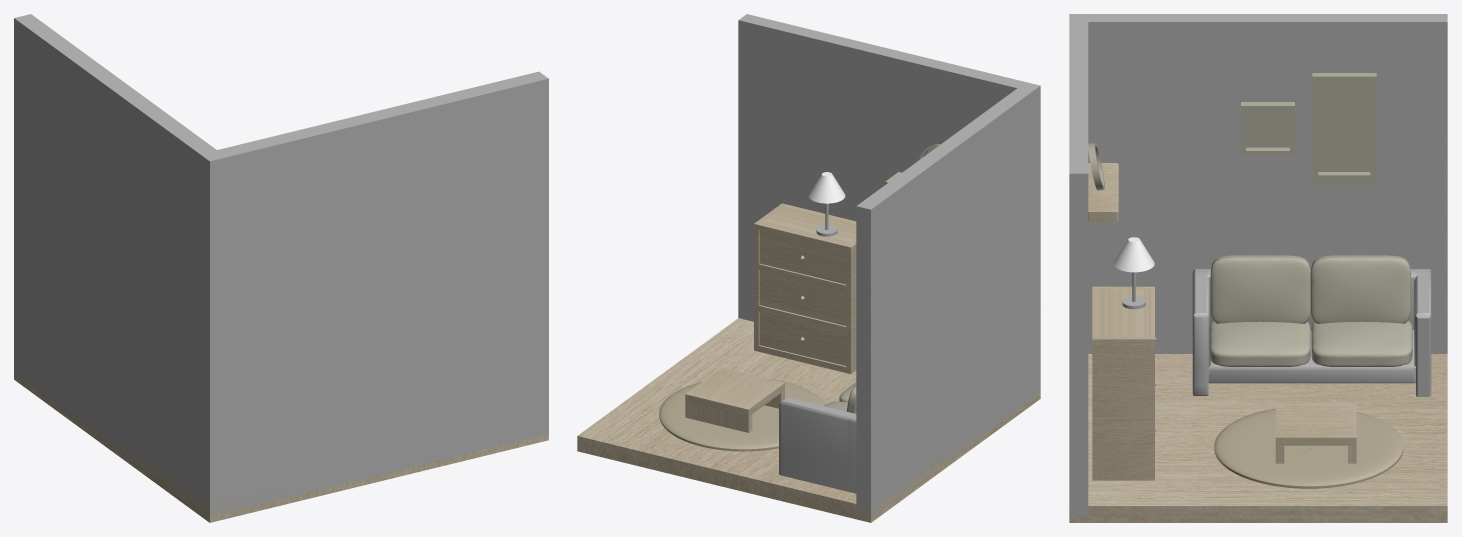
Rendered from basic.gltf.
The picture shows the model from 3 angles, left to right: view 1: azimuth 30°, elevation 25°; view 2: azimuth 150°, elevation 25°; view 3: azimuth 270°, elevation 25°; orthographic projection. The views are drawn at different scales.
Visible parts, largest first — view 1: Cube.2, Cube.1, Cube; view 2: Cube.1, Cube.2, Cube, Cube.3, sofa, Cylinder, room-desk, Cylinder.6; view 3: Cube.1 (×3), Cube (×3), Cube.3 (×2), Cube.2 (×3), Cylinder (×2), sofa, room-desk, Cylinder.6.
Part boxes in pixels (box(x1,y1,x2,y2)): Cube.2: box(200, 71, 548, 515); Cube.1: box(14, 14, 226, 515); Cube: box(14, 373, 548, 522); Cube.1: box(856, 84, 1040, 516); Cube.2: box(738, 14, 1040, 398); Cube: box(577, 318, 1040, 522); Cube.3: box(754, 203, 856, 373); sofa: box(779, 397, 856, 493); Cylinder: box(659, 378, 825, 451); room-desk: box(685, 367, 784, 432); Cylinder.6: box(808, 172, 845, 203); Cube.1 (×3): box(1069, 14, 1447, 353); Cube (×3): box(1069, 102, 1447, 522); Cube.3 (×2): box(1092, 255, 1410, 480); Cube.2 (×3): box(1069, 14, 1412, 516); Cylinder (×2): box(1088, 142, 1403, 488); sofa: box(1192, 269, 1431, 396); room-desk: box(1275, 403, 1356, 463); Cylinder.6: box(1113, 237, 1154, 272).
Size of the model in its own units: 1009 by 1028 by 1009.
Materials: 9 (8 with a texture image).
